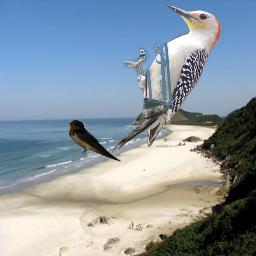Swallow: (67, 119, 122, 162)
Woodpecker: (111, 2, 224, 153)
